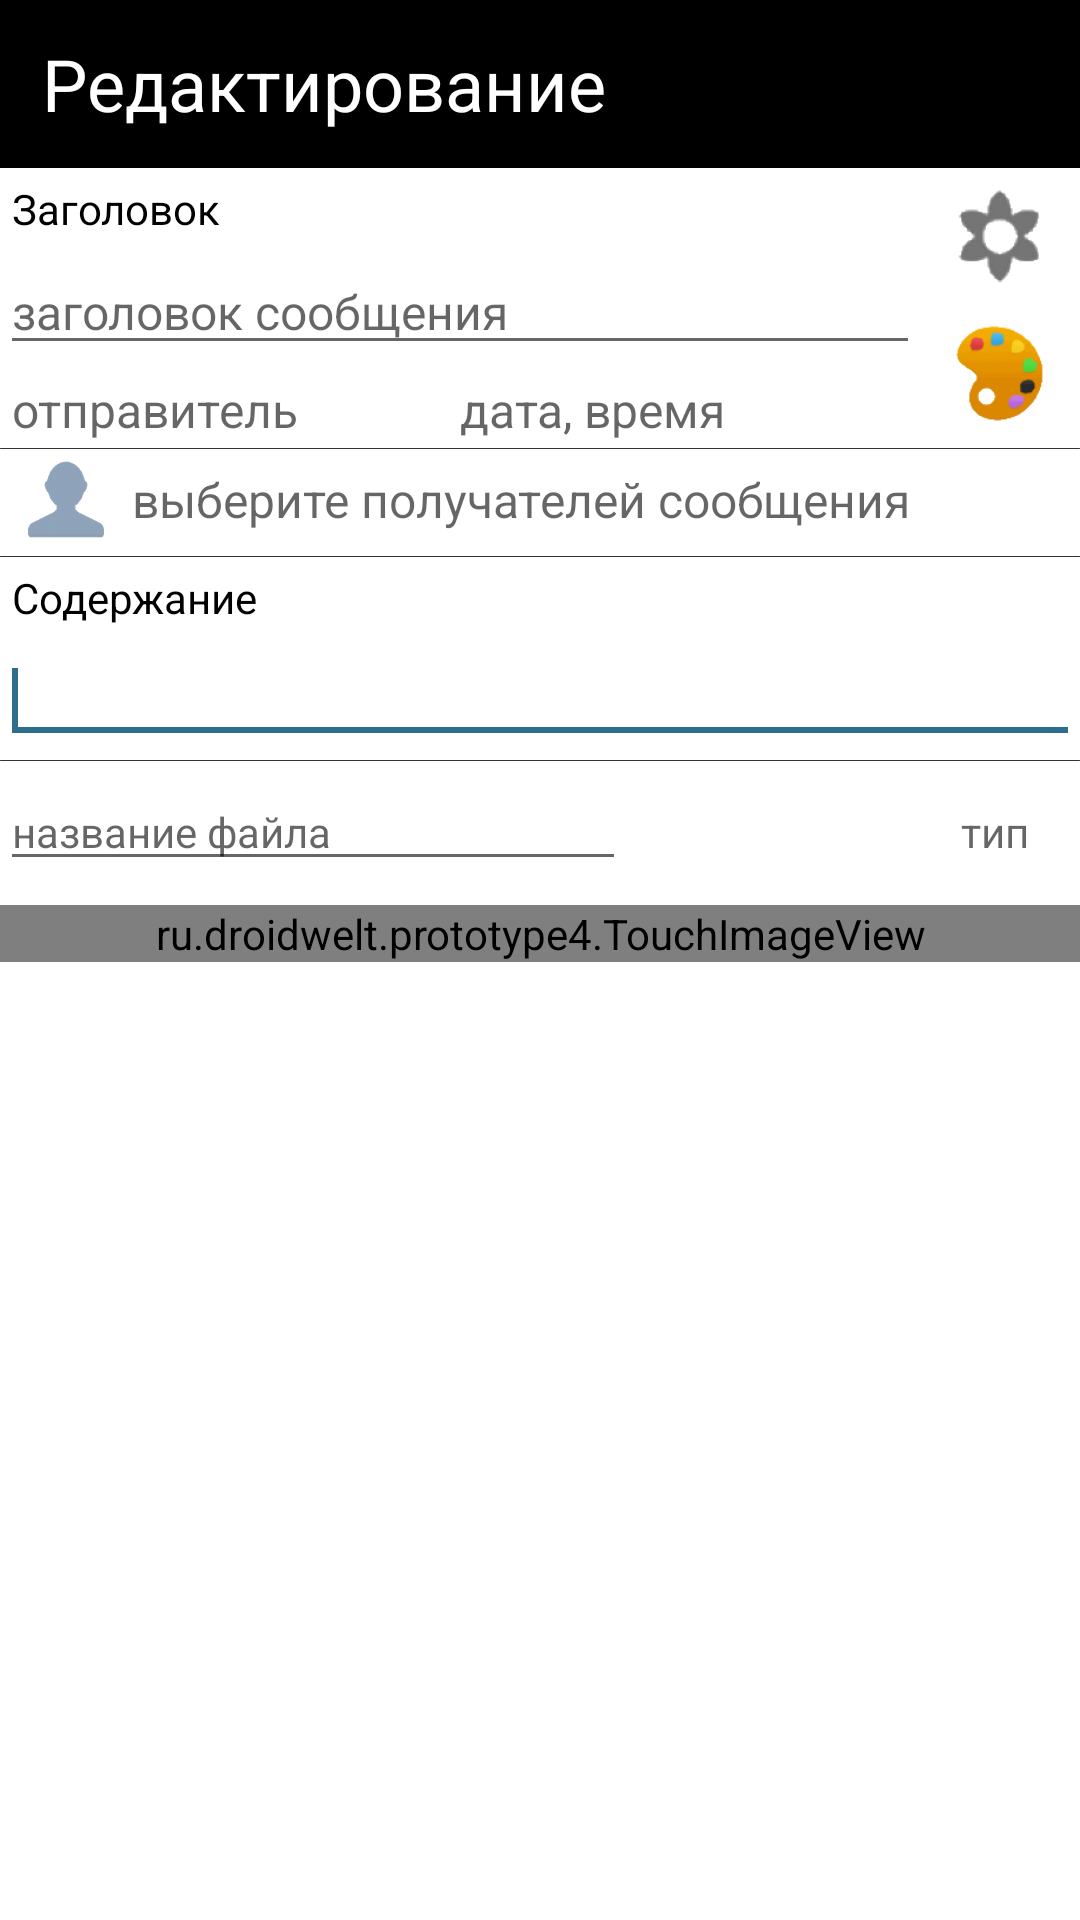

Where icons sit on this 1080 x 1920 app screen, as (x1, y1, x2, y2):
edit set clr: (956, 326, 1043, 421)
